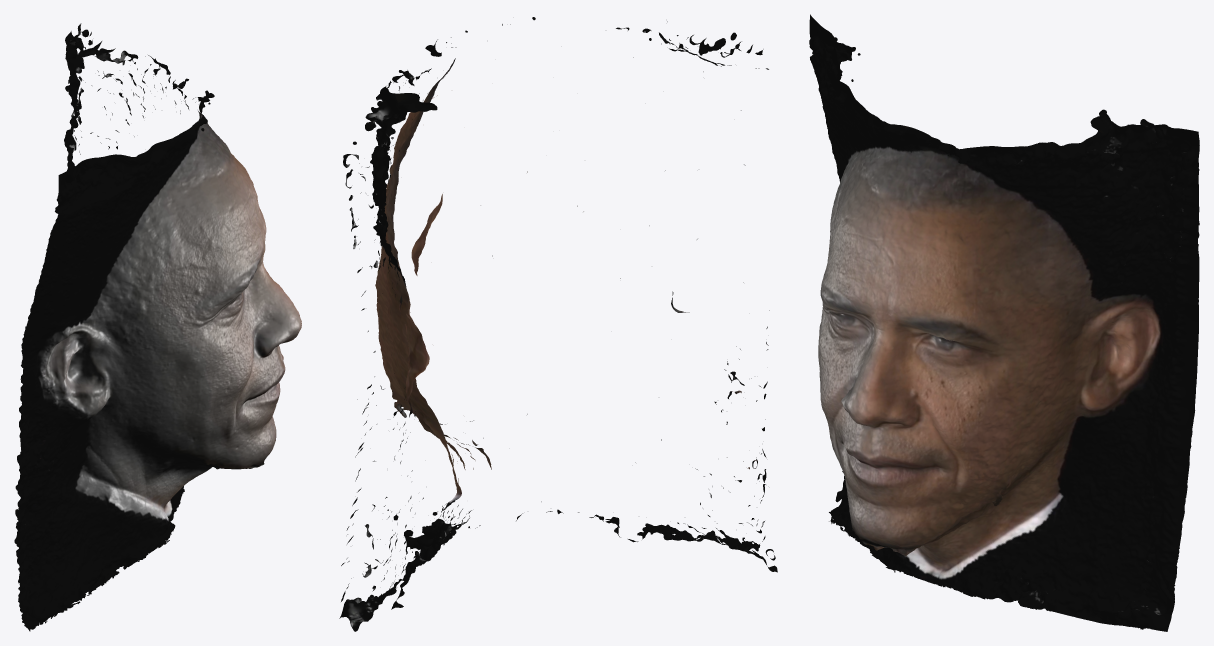
The model's file is barack_obama.glb.
3 views of the same model, side by side, from view 1: azimuth 30°, elevation 25°; view 2: azimuth 150°, elevation 25°; view 3: azimuth 270°, elevation 25° (orthographic). The views are drawn at different scales.
Parts seen in each view (by area): view 1: Object_3, Object_5, Object_4, Object_6, Object_7; view 2: Object_6, Object_4, Object_5, Object_3, Object_7; view 3: Object_3, Object_4, Object_6, Object_5, Object_7.
Boxes of the visible parts, box(x1,y1,x2,y2) form: Object_3: box(69, 55, 301, 481); Object_5: box(14, 59, 193, 594); Object_4: box(20, 64, 255, 570); Object_6: box(14, 23, 210, 631); Object_7: box(18, 50, 161, 624); Object_6: box(339, 17, 777, 626); Object_4: box(372, 24, 751, 538); Object_5: box(377, 21, 768, 609); Object_3: box(378, 58, 674, 469); Object_7: box(340, 38, 757, 631); Object_3: box(818, 144, 1086, 556); Object_4: box(812, 65, 1155, 602); Object_6: box(809, 27, 1199, 631); Object_5: box(809, 14, 1158, 622); Object_7: box(809, 27, 1176, 629).
Bounding box in the file's own units: 2.61 × 3.87 × 2.68.
1 material, 1 textured.
